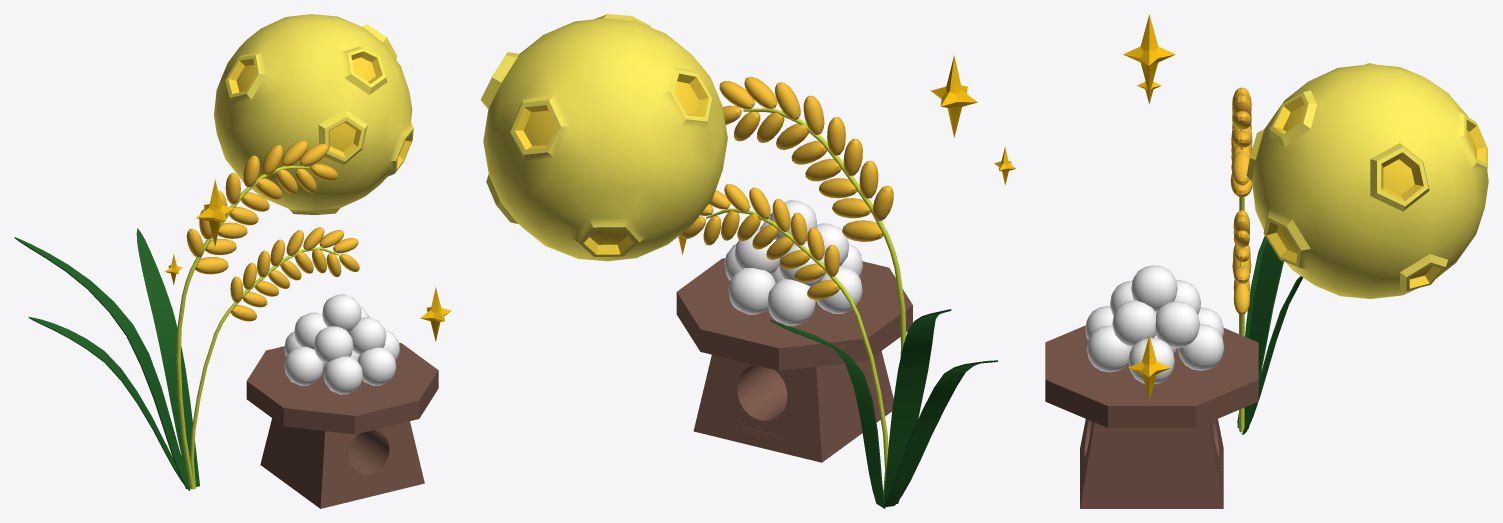
Rendered from moon_viewing_ceremony.gltf.
The picture shows the model from 3 angles, left to right: view 1: azimuth 30°, elevation 25°; view 2: azimuth 150°, elevation 25°; view 3: azimuth 270°, elevation 25°; orthographic projection. The views are drawn at different scales.
Parts seen in each view (by area): view 1: Cube.901; view 2: Cube.901; view 3: Cube.901.
Part boxes in pixels (x1,y1,x2,y2): Cube.901: (14, 14, 451, 508); Cube.901: (480, 14, 1015, 508); Cube.901: (1045, 14, 1488, 508).
Bounding box in the file's own units: 2.75 × 2.6 × 2.28.
1 material, 1 textured.
